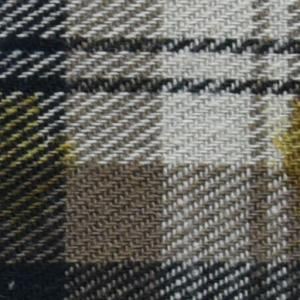Oil Stain: (1, 94, 81, 234), (266, 95, 300, 222)
